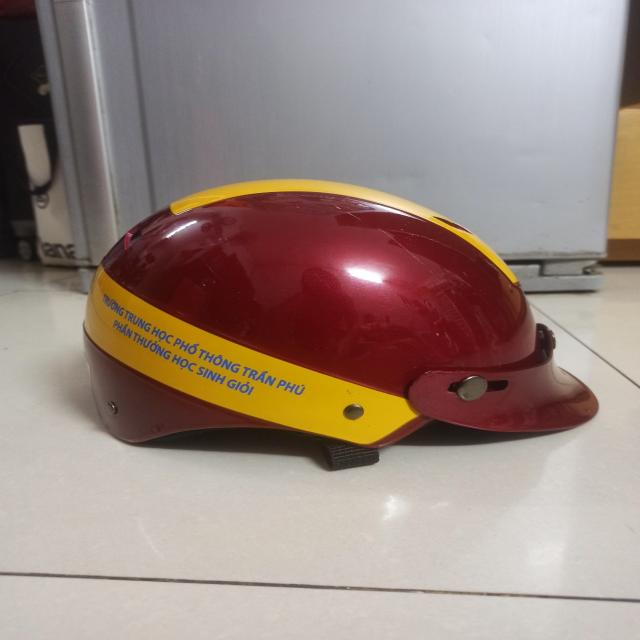Helmet: (77, 176, 601, 468)
